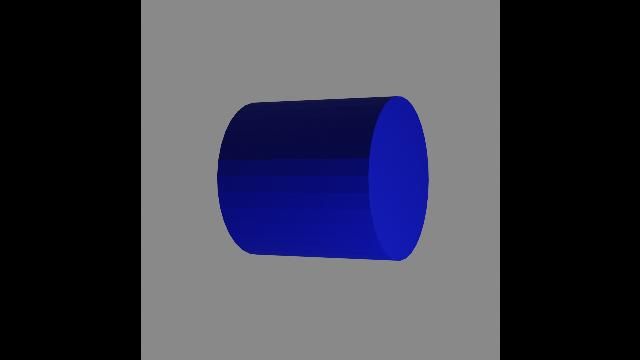Cylinder: (206, 84, 434, 279)
